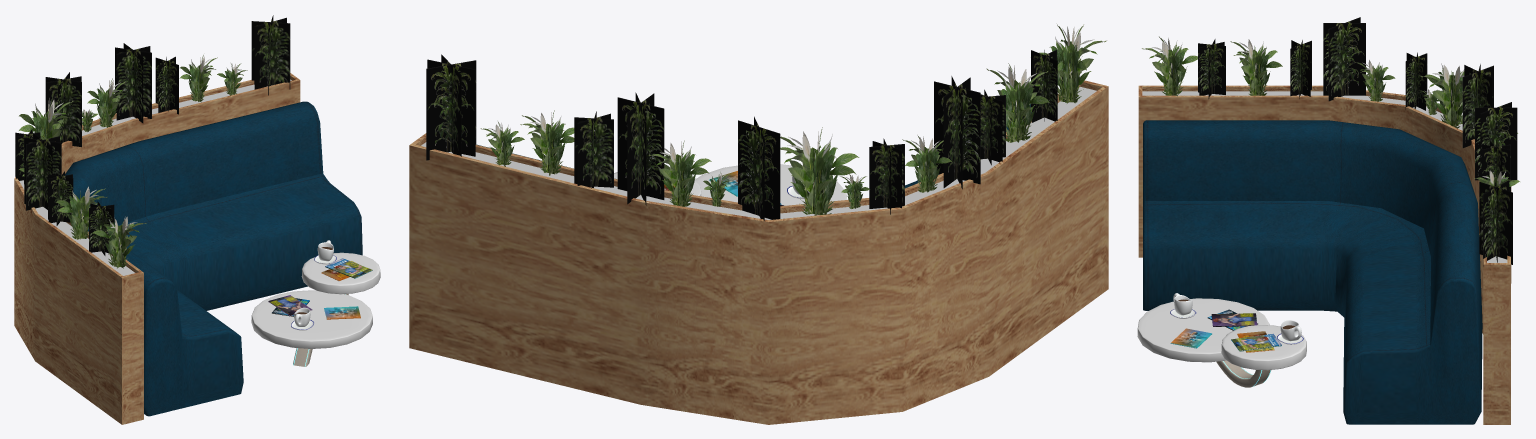
The model's file is Mueble_Set_Taza_Low.fbx.
The picture shows the model from 3 angles, left to right: view 1: azimuth 30°, elevation 25°; view 2: azimuth 150°, elevation 25°; view 3: azimuth 270°, elevation 25°; orthographic projection. The views are drawn at different scales.
Visible parts, largest first — view 1: matera, mesa, PLATO, PLATO.001; view 2: matera, mesa; view 3: matera, mesa, PLATO.001, PLATO.
Boxes of the visible parts, bbox=[...] form: matera: bbox=[14, 15, 362, 424]; mesa: bbox=[251, 252, 380, 366]; PLATO: bbox=[291, 307, 314, 330]; PLATO.001: bbox=[314, 240, 336, 264]; matera: bbox=[409, 24, 1108, 424]; mesa: bbox=[614, 164, 847, 206]; matera: bbox=[1138, 17, 1519, 424]; mesa: bbox=[1137, 298, 1306, 387]; PLATO.001: bbox=[1277, 320, 1303, 344]; PLATO: bbox=[1170, 293, 1196, 318].
Bounding box in the file's own units: 280 × 163 × 245.
